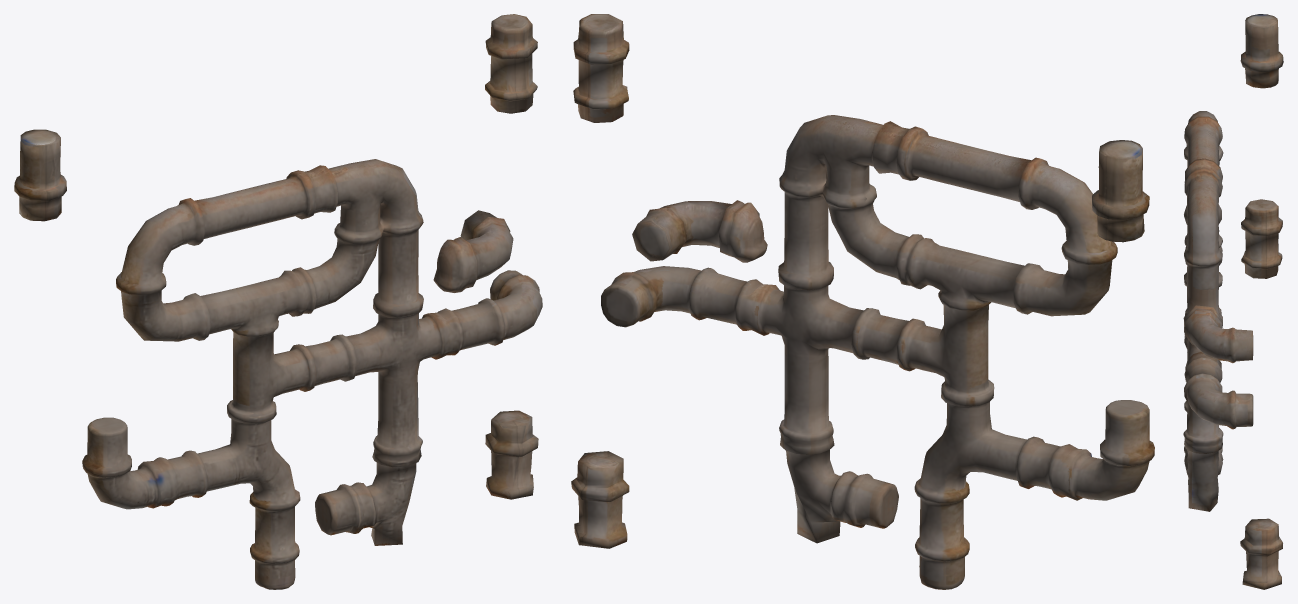
Rendered from Creepy_old_shining_pi_0124161600_stylize.fbx.
3 renders of one model, left to right at view 1: azimuth 30°, elevation 25°; view 2: azimuth 150°, elevation 25°; view 3: azimuth 270°, elevation 25°, orthographic. The views are drawn at different scales.
Visible parts, largest first — view 1: Mesh_0; view 2: Mesh_0; view 3: Mesh_0.
Boxes of the visible parts, box(x1,y1,x2,y2) form: Mesh_0: box(14, 14, 542, 589); Mesh_0: box(571, 14, 1154, 589); Mesh_0: box(1183, 14, 1283, 589).
Size of the model in its own units: 1155 by 1000 by 241.
1 material, 1 textured.
